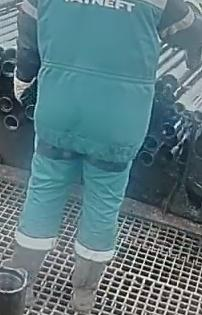vest: (30, 0, 169, 161)
